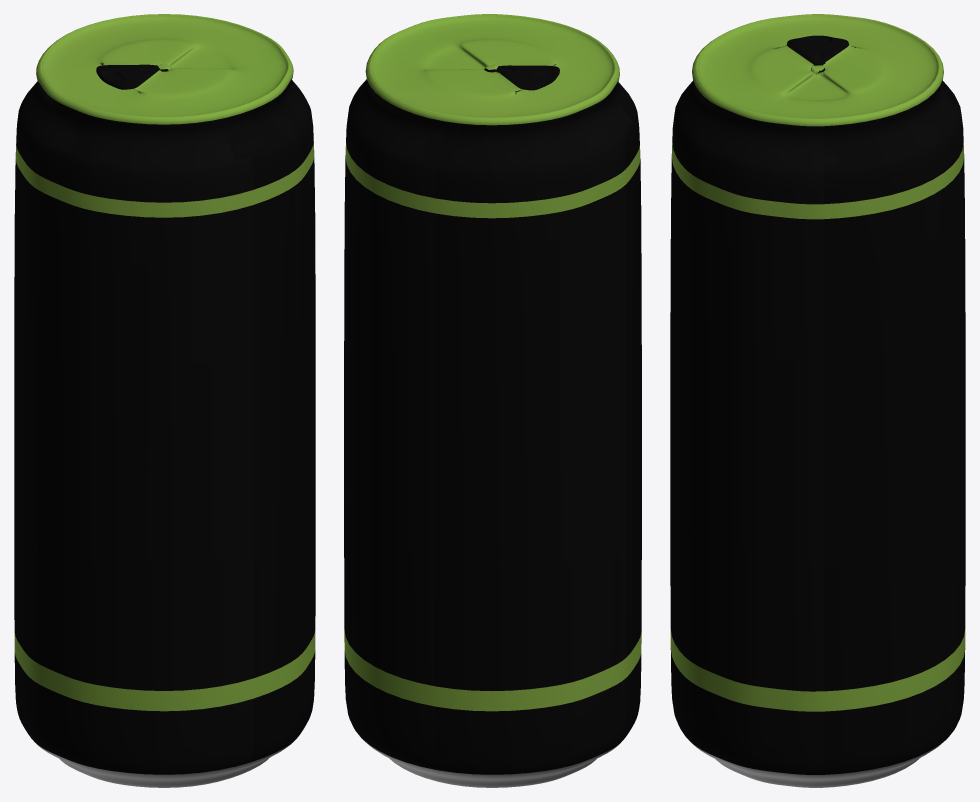
File: Can1.glb
3 renders of one model, left to right at view 1: azimuth 30°, elevation 25°; view 2: azimuth 150°, elevation 25°; view 3: azimuth 270°, elevation 25°, orthographic.
Parts seen in each view (by area): view 1: Monster; view 2: Monster; view 3: Monster.
Part boxes in pixels (x1,y1,x2,y2): Monster: (14,14,315,787); Monster: (344,14,641,787); Monster: (670,14,965,787).
Bounding box in the file's own units: 0.4328 × 1.09 × 0.4248.
Materials: 1 (1 with a texture image).
